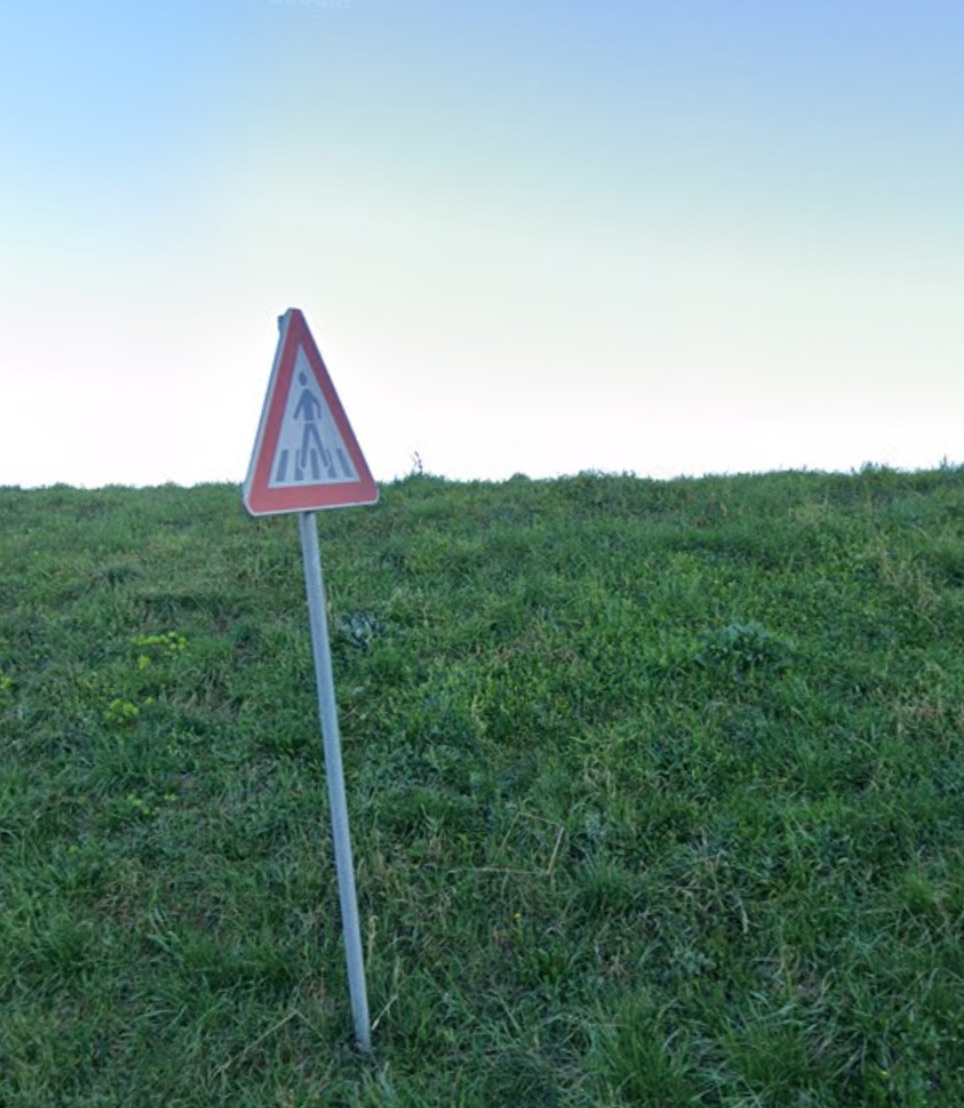Približavanje pješačkom prijelazu: (245, 308, 380, 516)
